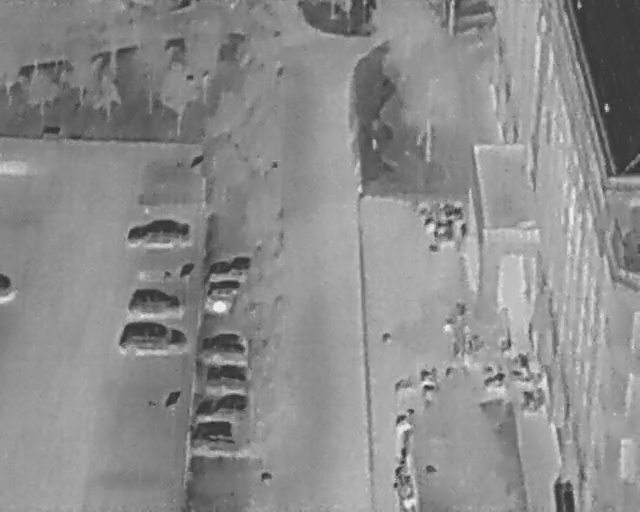Bicycle: (479, 368, 508, 391), (391, 405, 417, 427), (516, 351, 535, 380), (442, 206, 467, 219), (390, 460, 407, 478), (433, 230, 454, 244), (398, 446, 413, 465), (398, 475, 413, 492), (422, 214, 437, 230), (535, 387, 547, 407), (434, 218, 452, 231), (399, 427, 412, 444), (521, 391, 533, 409), (442, 317, 455, 332), (463, 336, 474, 351), (418, 383, 436, 392), (458, 224, 469, 238), (457, 301, 466, 318), (420, 368, 430, 382), (445, 365, 455, 376)
Car: (114, 321, 190, 357), (189, 421, 258, 451), (122, 218, 193, 247), (193, 390, 256, 419), (126, 285, 183, 317), (199, 280, 255, 311), (198, 331, 256, 359), (203, 254, 254, 281), (203, 363, 258, 388), (0, 271, 19, 303)
